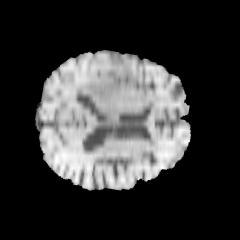glioma: (81, 60, 131, 98)
